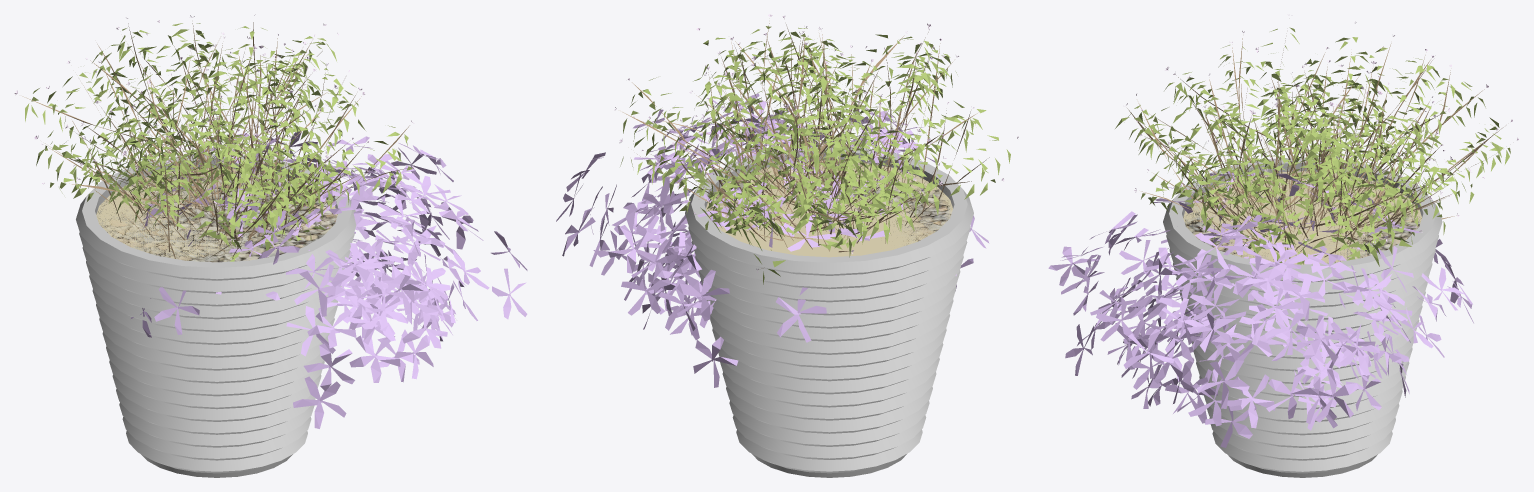
Rendered from florcitas-rosas-en-jarron-gris.glb.
3 renders of one model, left to right at view 1: azimuth 30°, elevation 25°; view 2: azimuth 150°, elevation 25°; view 3: azimuth 270°, elevation 25°, orthographic. The views are drawn at different scales.
Visible parts, largest first — view 1: SketchUp, SketchUp.003, SketchUp.3717, SketchUp.5419, SketchUp.001, SketchUp.5689; view 2: SketchUp, SketchUp.3717, SketchUp.003, SketchUp.5419, SketchUp.001, SketchUp.5689; view 3: SketchUp.003, SketchUp, SketchUp.3717, SketchUp.5419, SketchUp.001, SketchUp.5689.
Part boxes in pixels (left/top/right/bottom): SketchUp: left=76, top=154, right=356, bottom=477; SketchUp.003: left=131, top=131, right=527, bottom=428; SketchUp.3717: left=25, top=23, right=412, bottom=261; SketchUp.5419: left=22, top=22, right=409, bottom=259; SketchUp.001: left=96, top=168, right=337, bottom=262; SketchUp.5689: left=14, top=14, right=414, bottom=241; SketchUp: left=685, top=146, right=973, bottom=477; SketchUp.3717: left=620, top=26, right=1010, bottom=284; SketchUp.003: left=556, top=93, right=989, bottom=387; SketchUp.5419: left=622, top=23, right=989, bottom=268; SketchUp.001: left=706, top=161, right=952, bottom=257; SketchUp.5689: left=614, top=14, right=1018, bottom=272; SketchUp.003: left=1048, top=171, right=1473, bottom=447; SketchUp: left=1163, top=157, right=1442, bottom=477; SketchUp.3717: left=1115, top=27, right=1510, bottom=266; SketchUp.5419: left=1127, top=38, right=1503, bottom=258; SketchUp.001: left=1183, top=171, right=1421, bottom=264; SketchUp.5689: left=1126, top=15, right=1519, bottom=249.
Size of the model in its own units: 0.759 by 0.7061 by 0.7405.
Materials: 7 (1 with a texture image).
